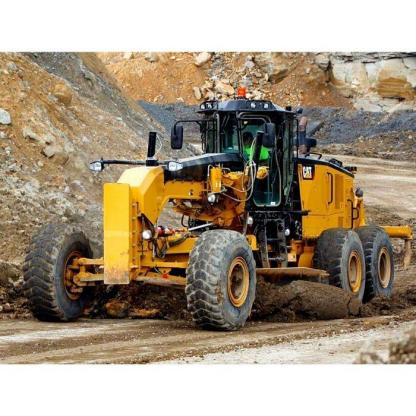bull_dozer/loader/grader: (15, 77, 410, 340)
